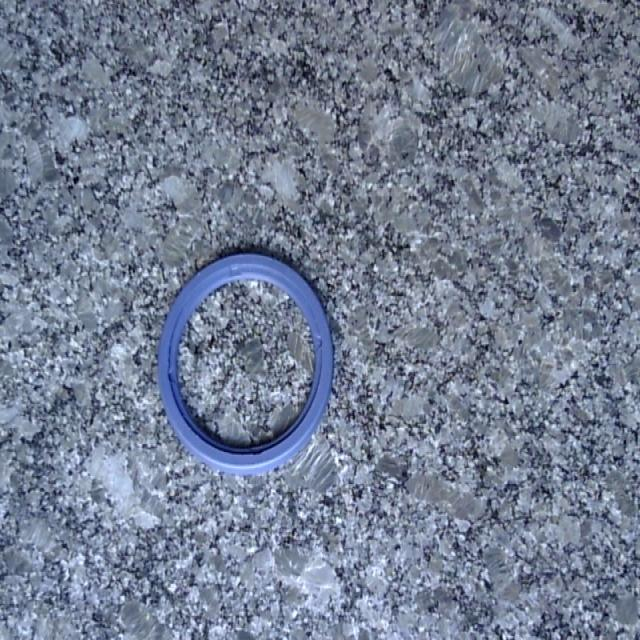cobalt-blue-ring: (159, 255, 332, 473)
